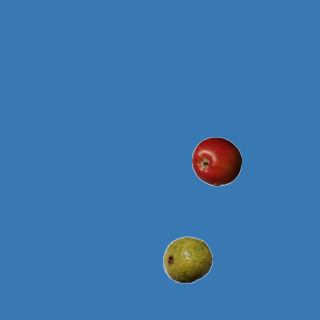Apple Braeburn: (191, 136, 241, 186)
Guava: (162, 234, 212, 284)
